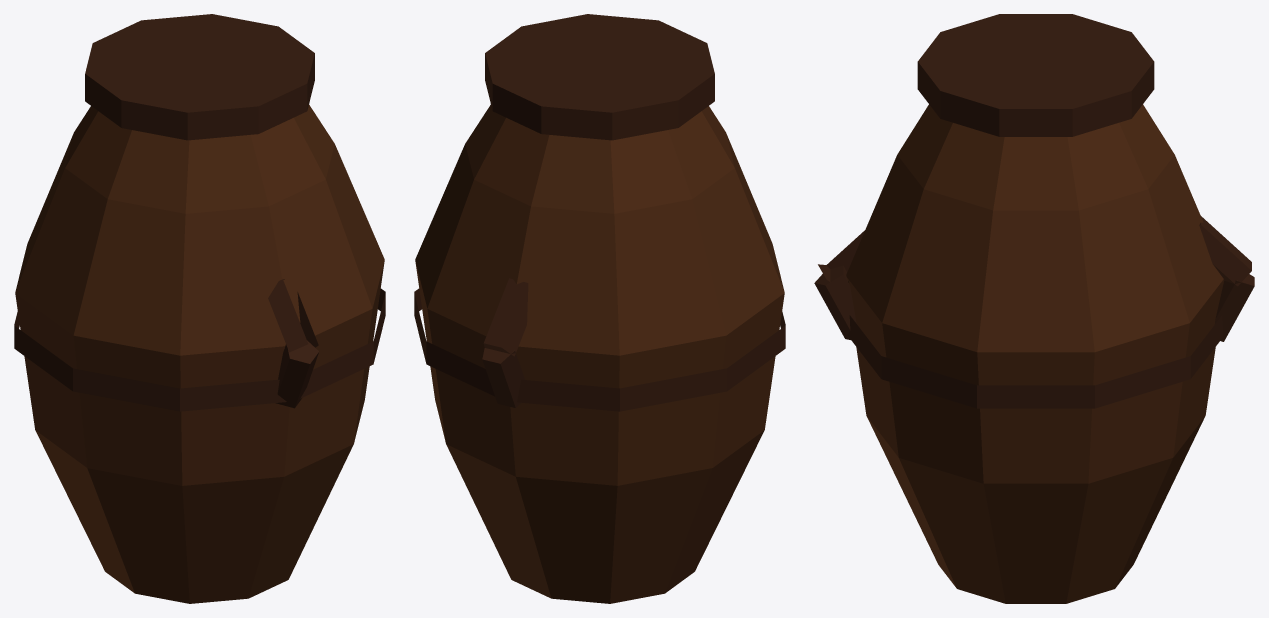
The model's file is jar_01.glb.
3 renders of one model, left to right at view 1: azimuth 30°, elevation 25°; view 2: azimuth 150°, elevation 25°; view 3: azimuth 270°, elevation 25°, orthographic.
Visible parts, largest first — view 1: jar_01; view 2: jar_01; view 3: jar_01.
Part boxes in pixels (box(x1,y1,x2,y2)): jar_01: box(14, 14, 385, 603); jar_01: box(414, 14, 785, 603); jar_01: box(814, 14, 1254, 603).
Size of the model in its own units: 0.7077 by 1.08 by 0.8567.
